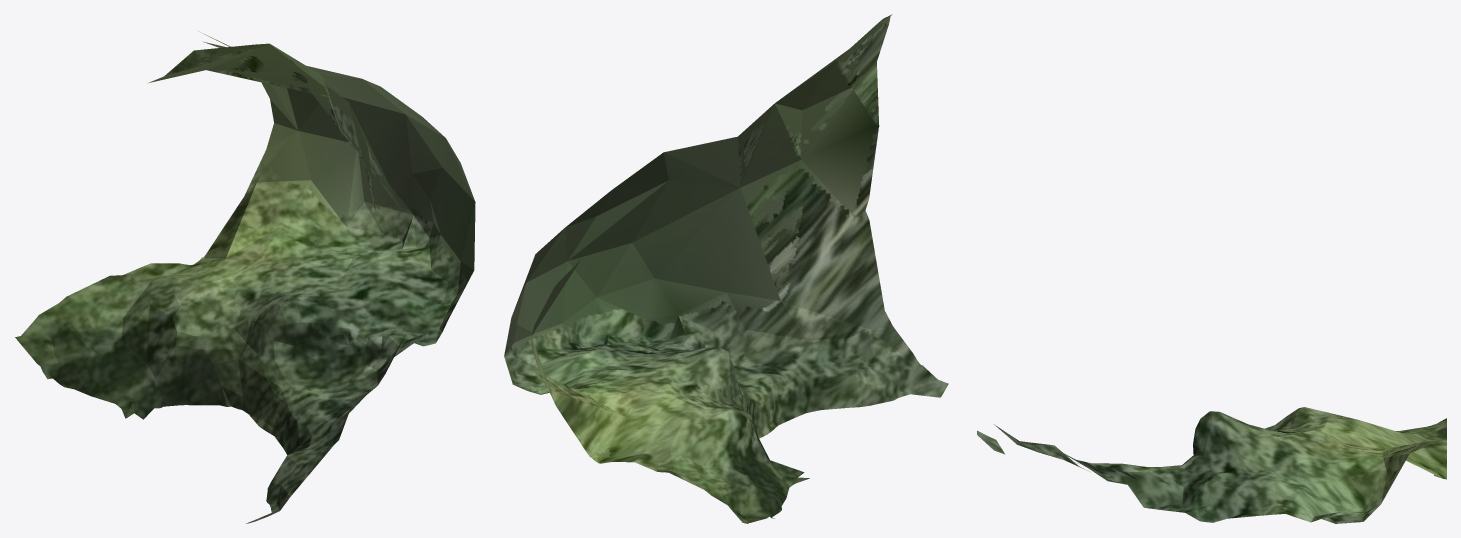
3 renders of one model, left to right at view 1: azimuth 30°, elevation 25°; view 2: azimuth 150°, elevation 25°; view 3: azimuth 270°, elevation 25°, orthographic. The views are drawn at different scales.
Bounding box in the file's own units: 4.95 × 5.9 × 5.9.
4 materials, 4 textured.
